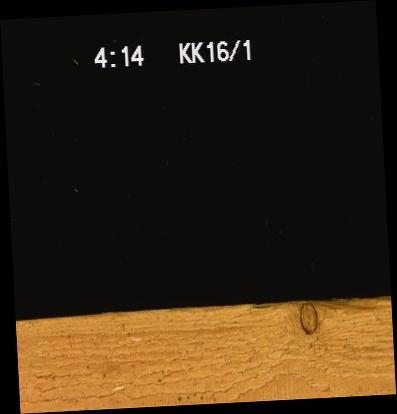dry_knot: (297, 301, 318, 334)
wave: (250, 297, 391, 307)
